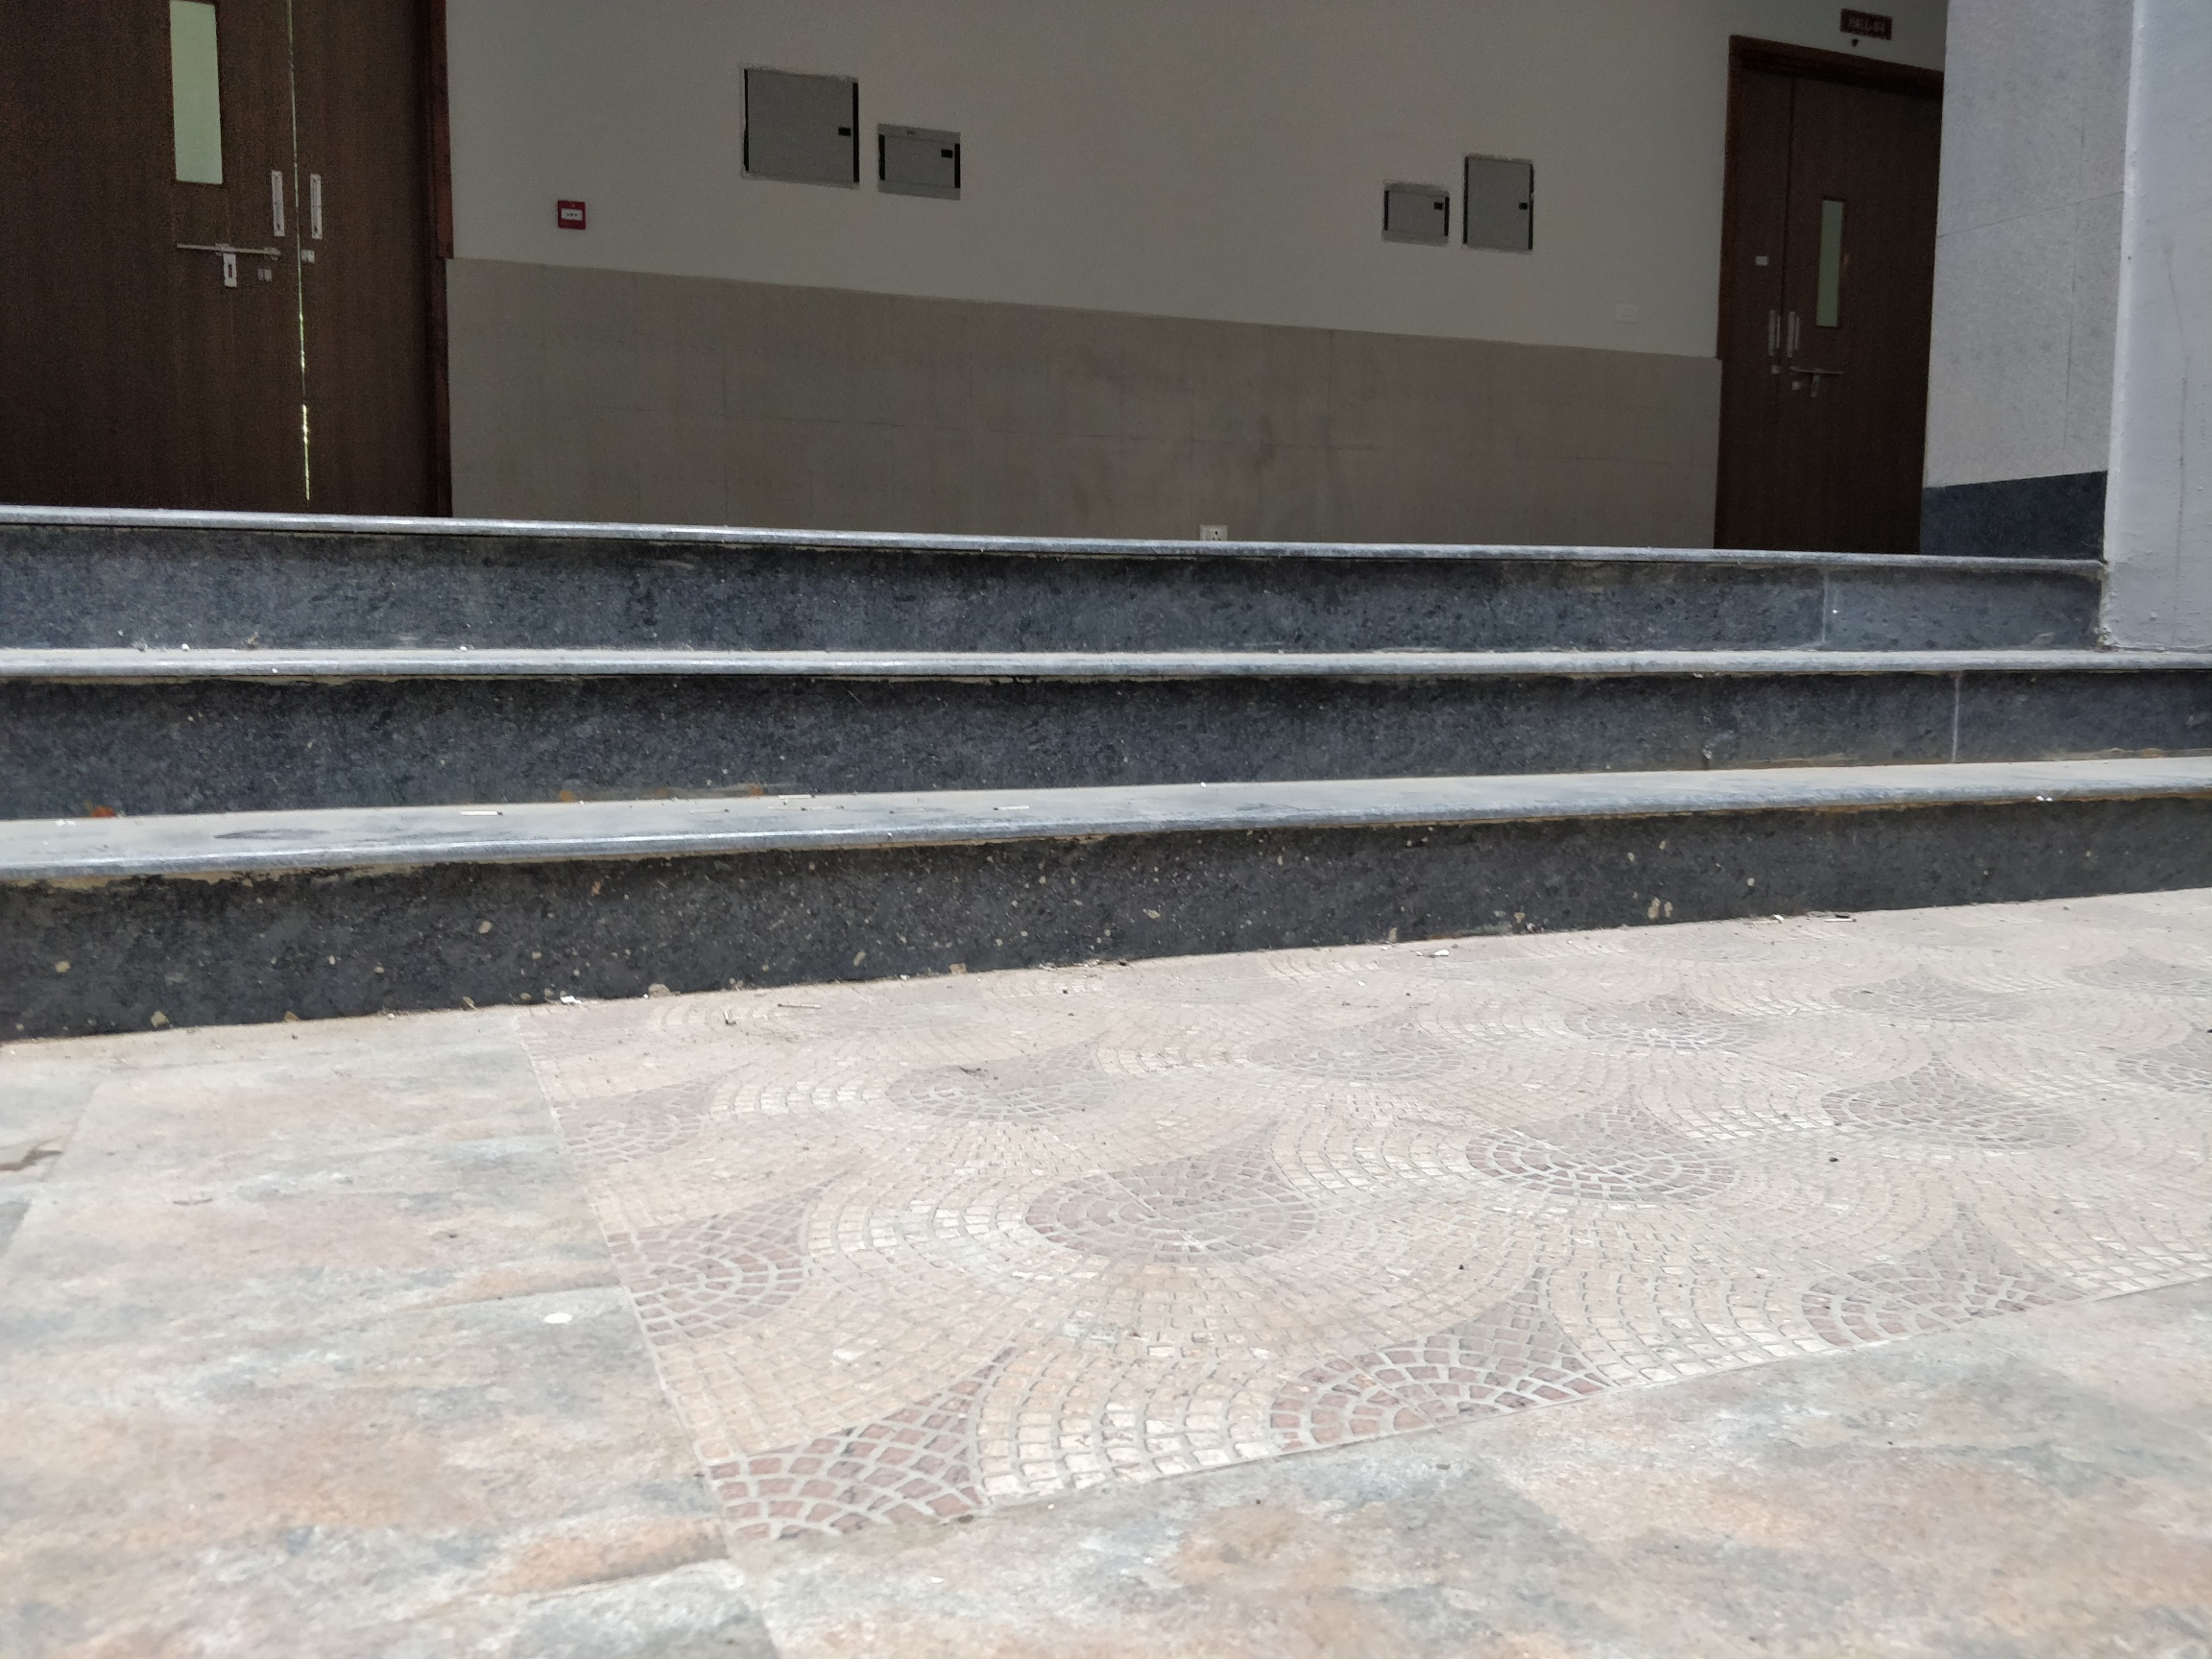stairs_up: (7, 500, 2127, 936)
